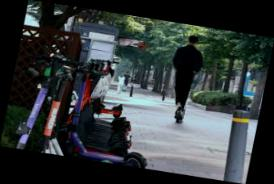nonhelmet: (160, 33, 210, 126)
